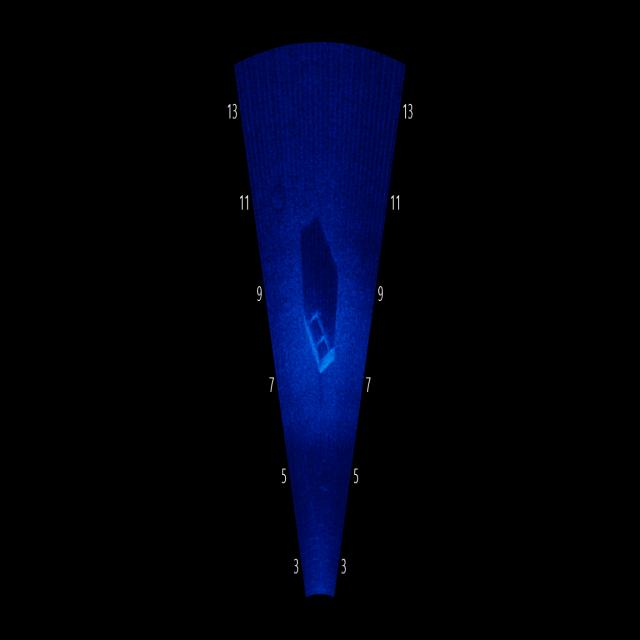square: (288, 285, 348, 402)
